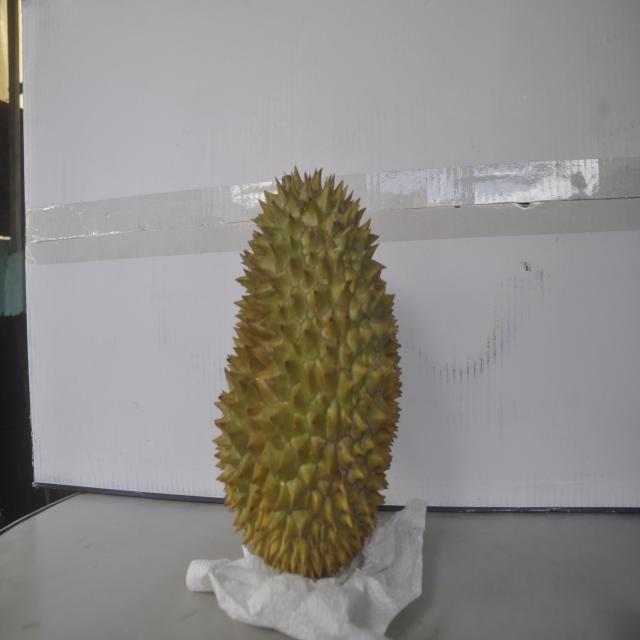mature: (212, 166, 405, 578)
